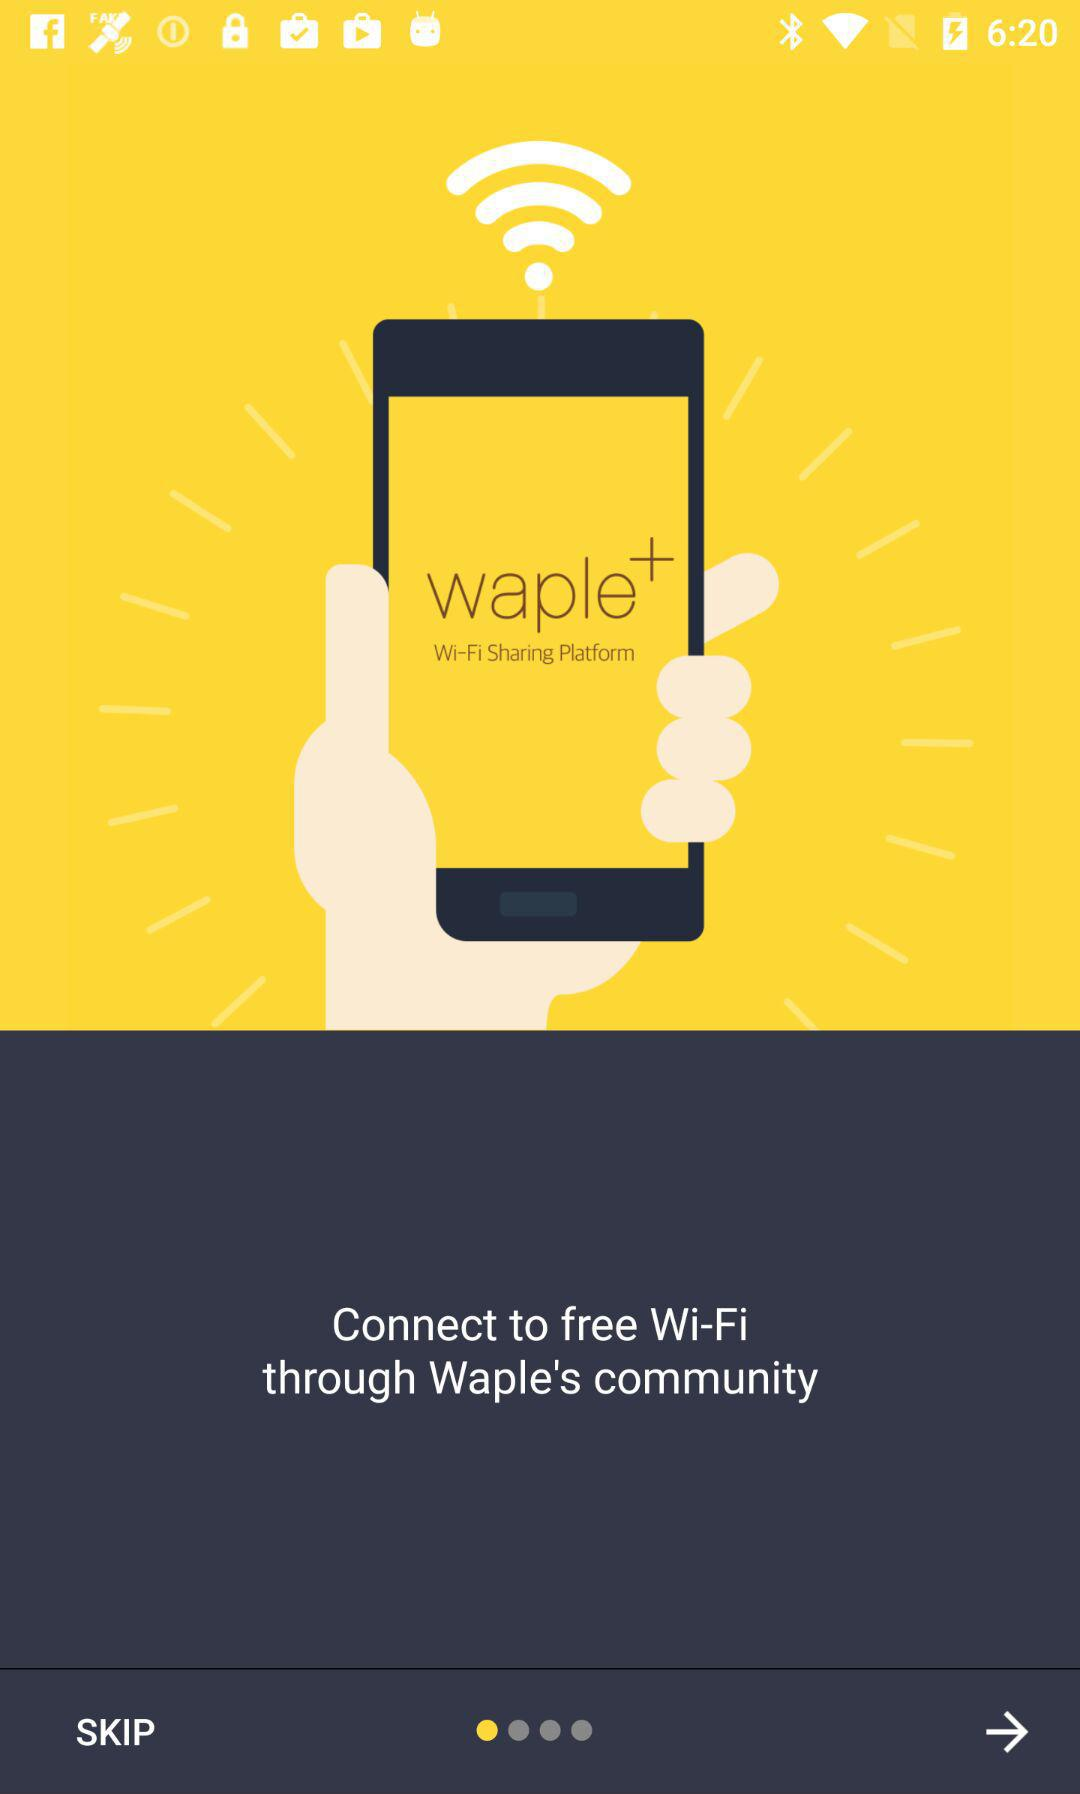Icon: (985, 1709, 1030, 1756)
Image: (96, 138, 972, 1032)
PageIndicator: (475, 1718, 594, 1744)
Text: (261, 1306, 820, 1406), (76, 1717, 158, 1748)
UpperTaskBar: (1, 1, 1080, 59)
